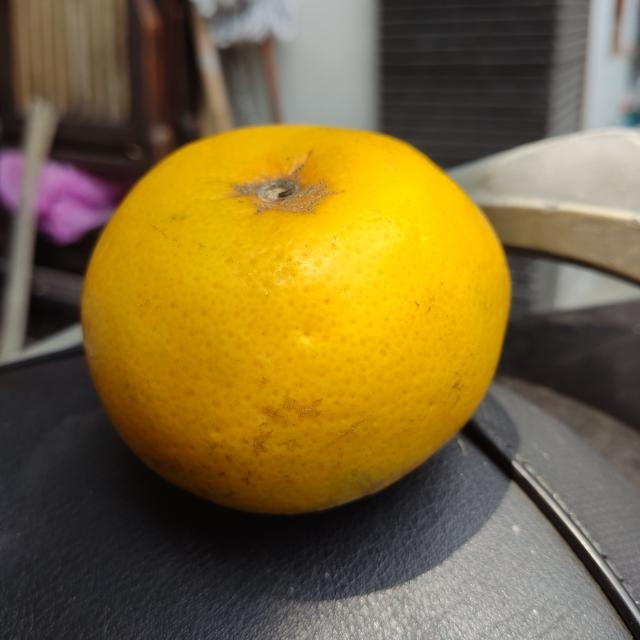agrume: (73, 120, 514, 525)
